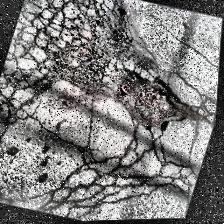pothole: (106, 65, 218, 145)
